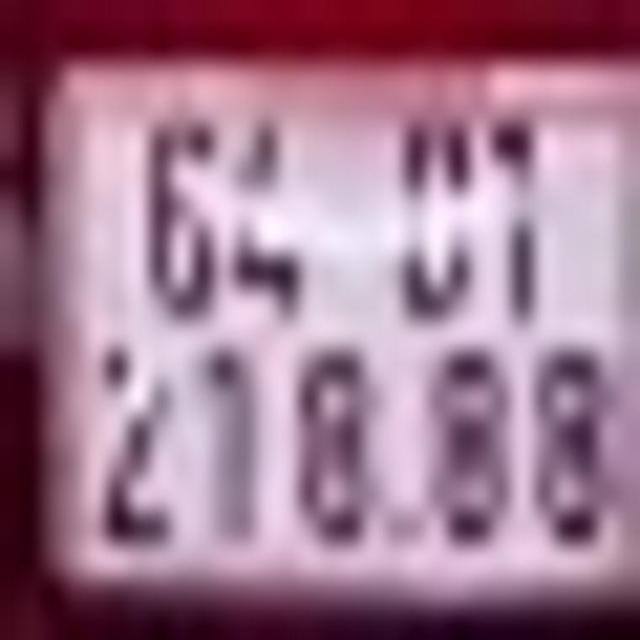1: (199, 337, 264, 552), (482, 113, 540, 322)
2: (95, 337, 172, 545)
4: (227, 116, 309, 327)
6: (143, 111, 222, 324)
8: (431, 341, 516, 544), (300, 338, 375, 553), (534, 344, 612, 544)
U: (398, 115, 476, 328)
